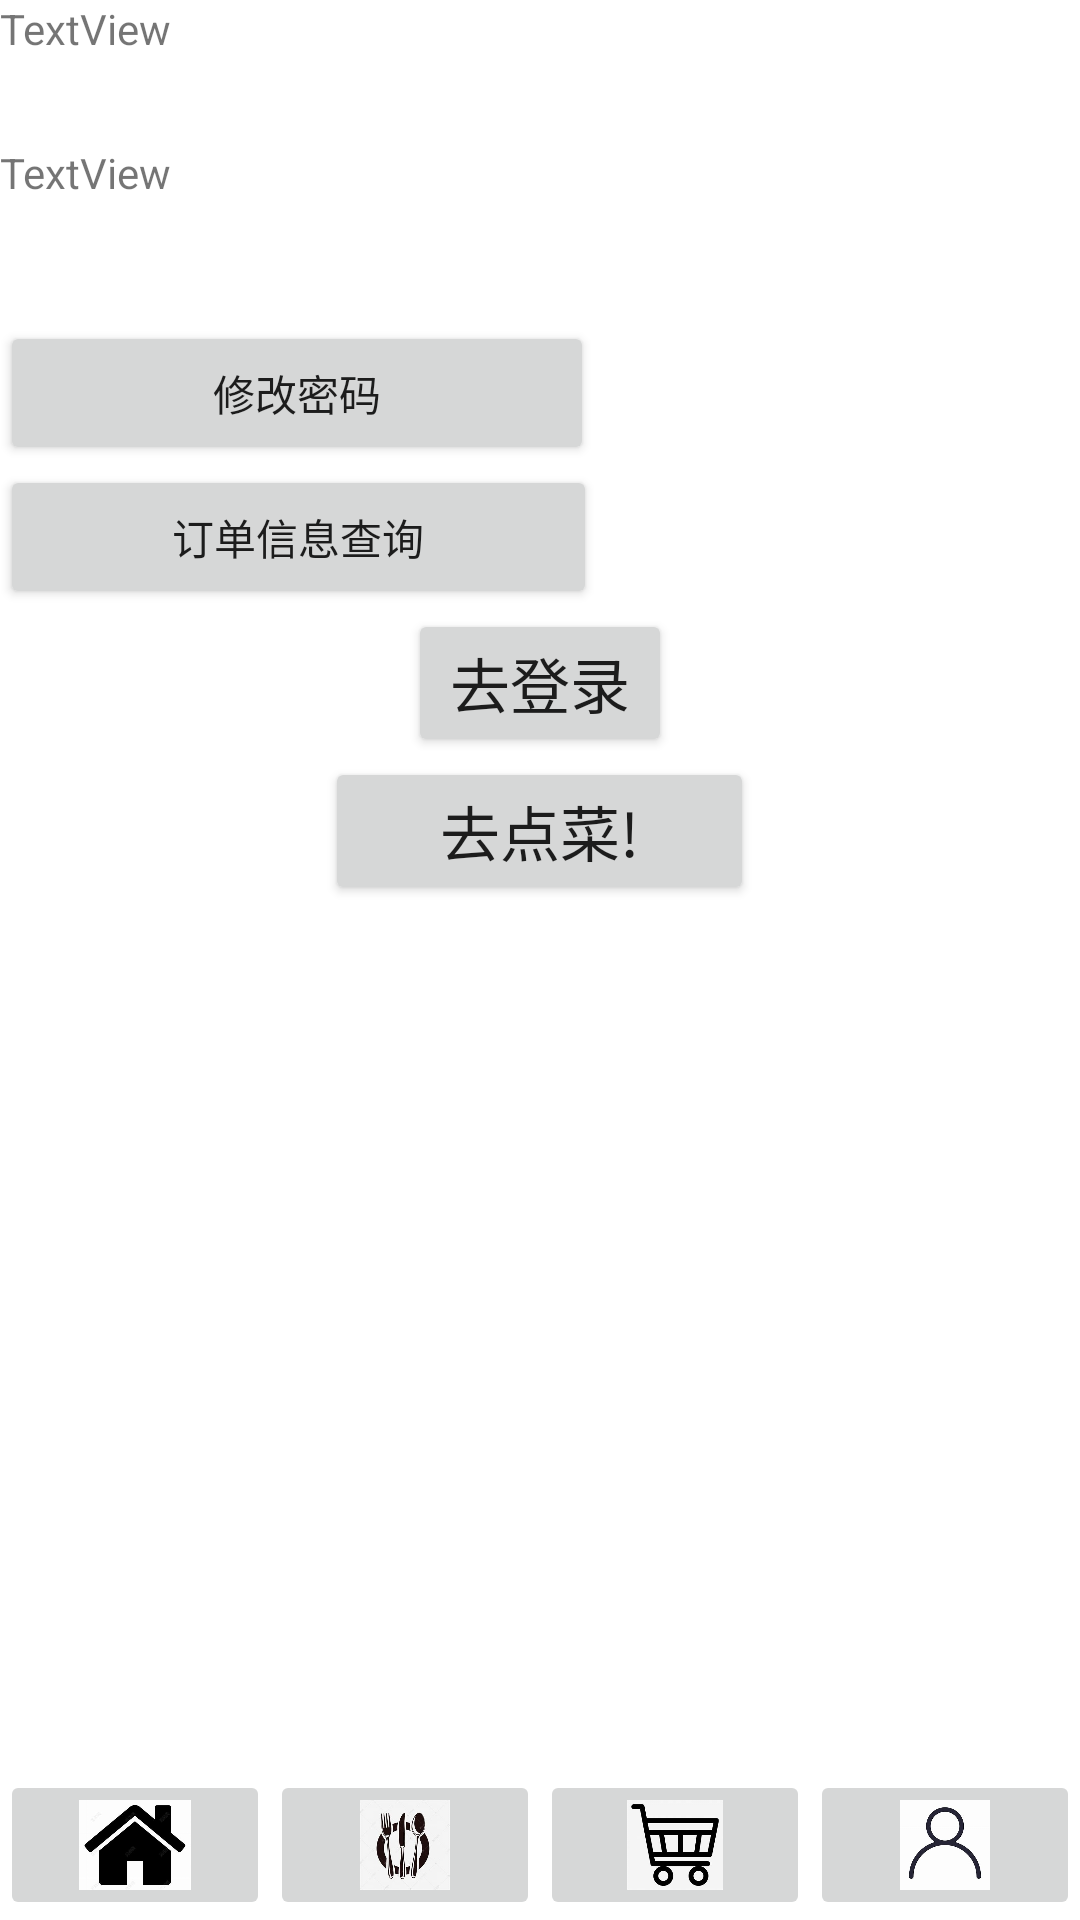

Screen size 1080w x 1920h. Icon name, then its box in pixels as (x1, y1, x2, y2):
homeimage: (12, 1788, 258, 1902)
